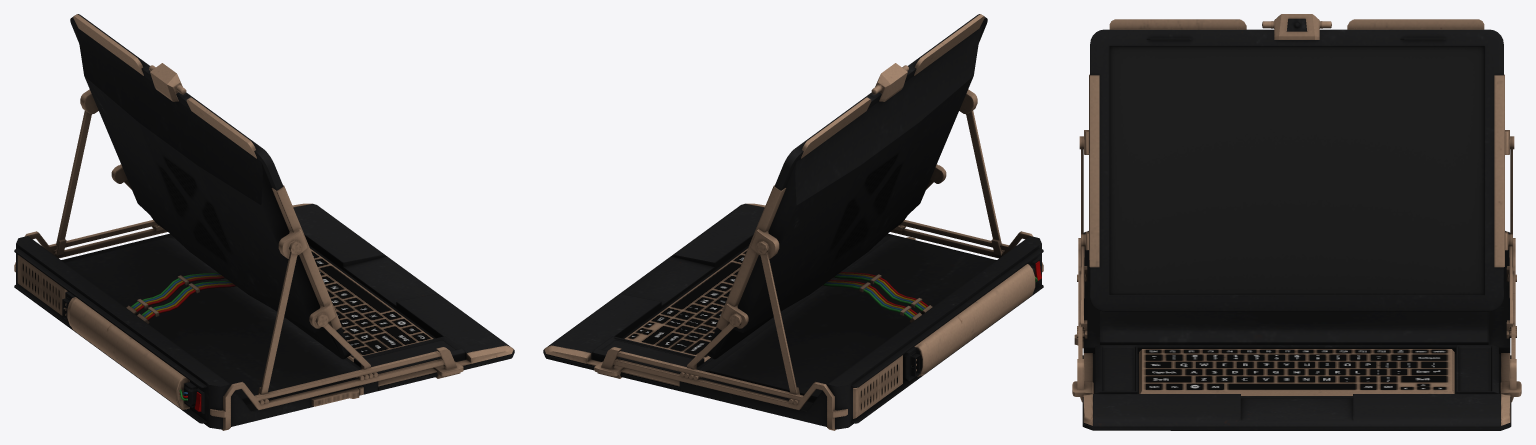
Rendered from Laptop 2.fbx.
The picture shows the model from 3 angles, left to right: view 1: azimuth 30°, elevation 25°; view 2: azimuth 150°, elevation 25°; view 3: azimuth 270°, elevation 25°; orthographic projection. The views are drawn at different scales.
Visible parts, largest first — view 1: Laptop_2; view 2: Laptop_2; view 3: Laptop_2.
Part boxes in pixels (x1=…): Laptop_2: x1=14, y1=14, x2=514, y2=430; Laptop_2: x1=543, y1=14, x2=1043, y2=430; Laptop_2: x1=1072, y1=14, x2=1521, y2=430.
Bounding box in the file's own units: 31.01 × 25.77 × 36.
1 material, 1 textured.
